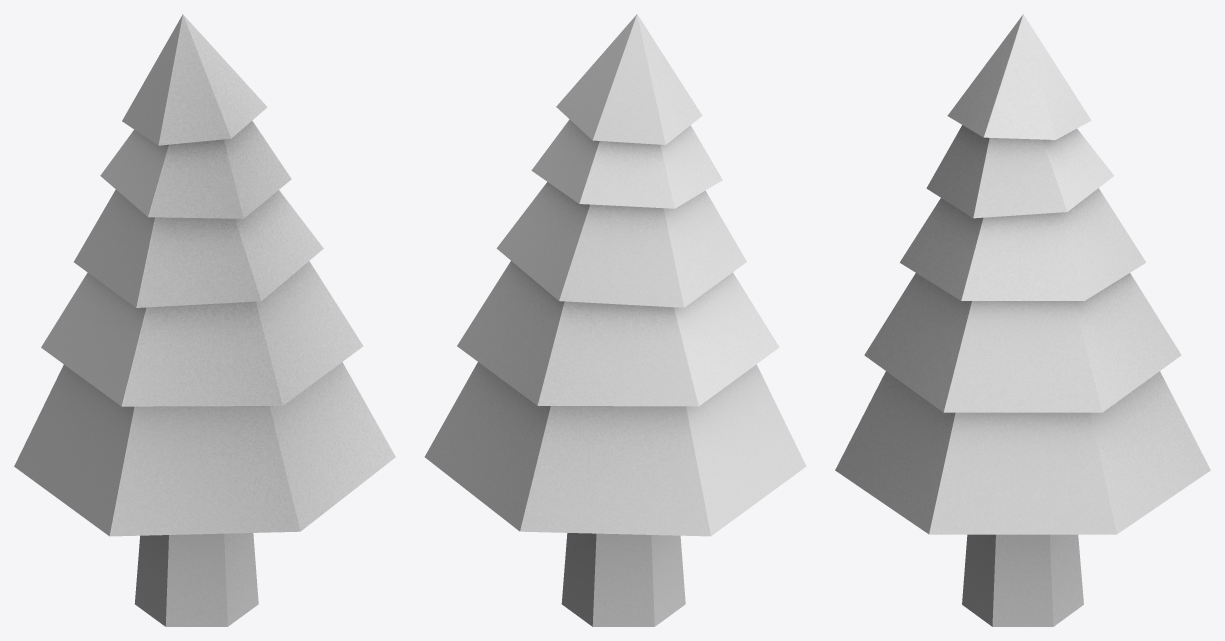
The model's file is Tree 1.fbx.
The picture shows the model from 3 angles, left to right: view 1: azimuth 30°, elevation 25°; view 2: azimuth 150°, elevation 25°; view 3: azimuth 270°, elevation 25°; orthographic projection.
Visible parts, largest first — view 1: Cylinder.005; view 2: Cylinder.005; view 3: Cylinder.005.
Boxes of the visible parts, bbox=[...] form: Cylinder.005: bbox=[14, 14, 395, 626]; Cylinder.005: bbox=[424, 14, 806, 626]; Cylinder.005: bbox=[835, 14, 1210, 626].
Bounding box in the file's own units: 388 × 769 × 448.
